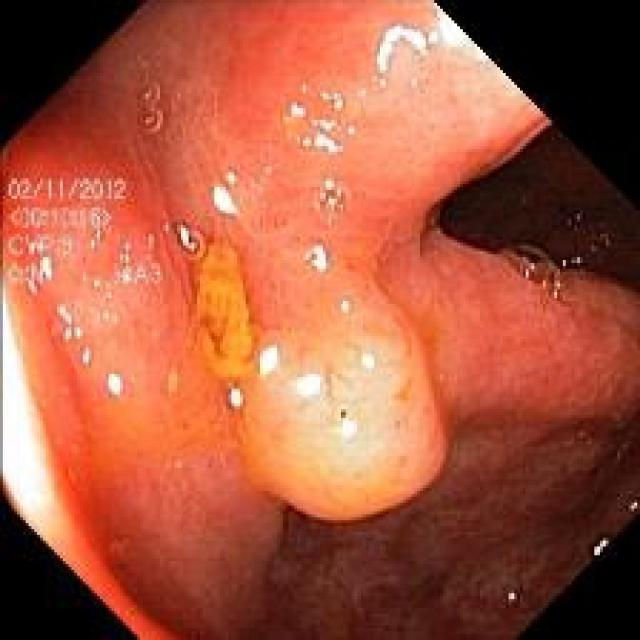Polyps: (240, 304, 446, 520)
